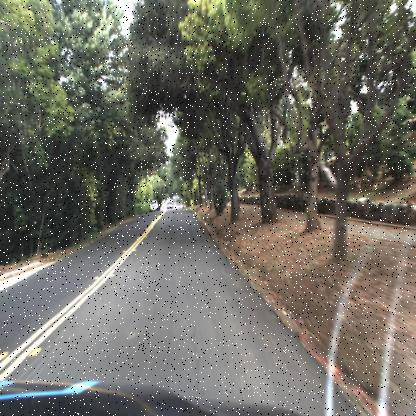car: (146, 196, 162, 214)
